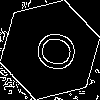O: (25, 25, 79, 76)
